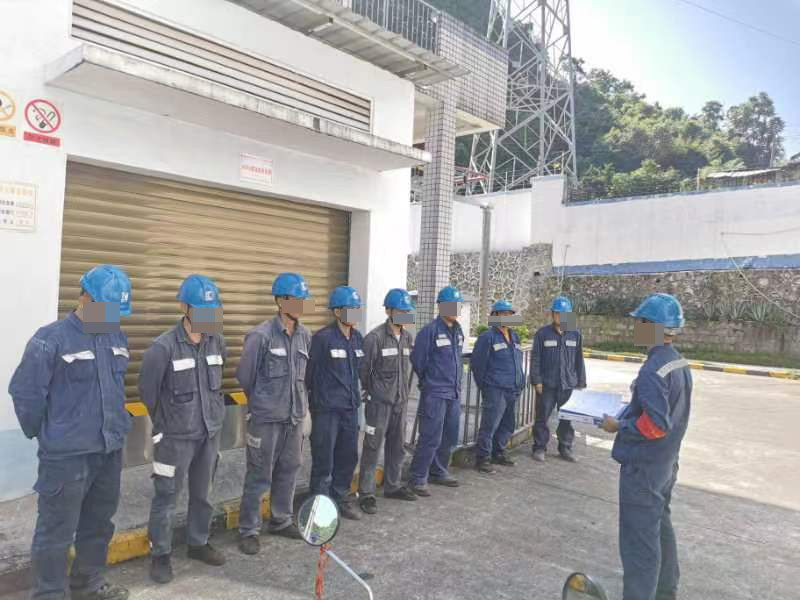badge: (633, 406, 668, 441)
downsuit: (27, 463, 122, 600), (615, 478, 681, 600), (152, 443, 215, 551), (241, 429, 298, 527), (307, 419, 360, 503), (409, 404, 462, 482), (475, 396, 517, 457), (532, 391, 570, 451)
halt: (77, 264, 135, 325), (631, 293, 686, 346), (176, 275, 224, 321), (270, 272, 312, 312), (327, 285, 365, 326), (383, 287, 415, 325), (435, 285, 465, 319), (548, 296, 573, 326), (491, 299, 516, 327)
hand: (599, 413, 621, 435)
inear: (637, 319, 662, 349), (77, 291, 95, 321), (273, 295, 290, 316), (331, 307, 346, 324), (179, 303, 191, 323), (384, 307, 397, 324), (491, 312, 503, 326), (438, 304, 448, 319)
person: (7, 264, 139, 600), (607, 290, 699, 600), (139, 273, 230, 573), (232, 273, 312, 546), (303, 285, 370, 513), (410, 284, 468, 492), (363, 284, 412, 500), (529, 295, 588, 462), (472, 297, 525, 465)
upsuit: (9, 313, 132, 454), (144, 324, 228, 438), (619, 349, 693, 468), (238, 318, 309, 424), (307, 326, 368, 411), (411, 319, 465, 395), (532, 324, 587, 388), (473, 327, 522, 389)
